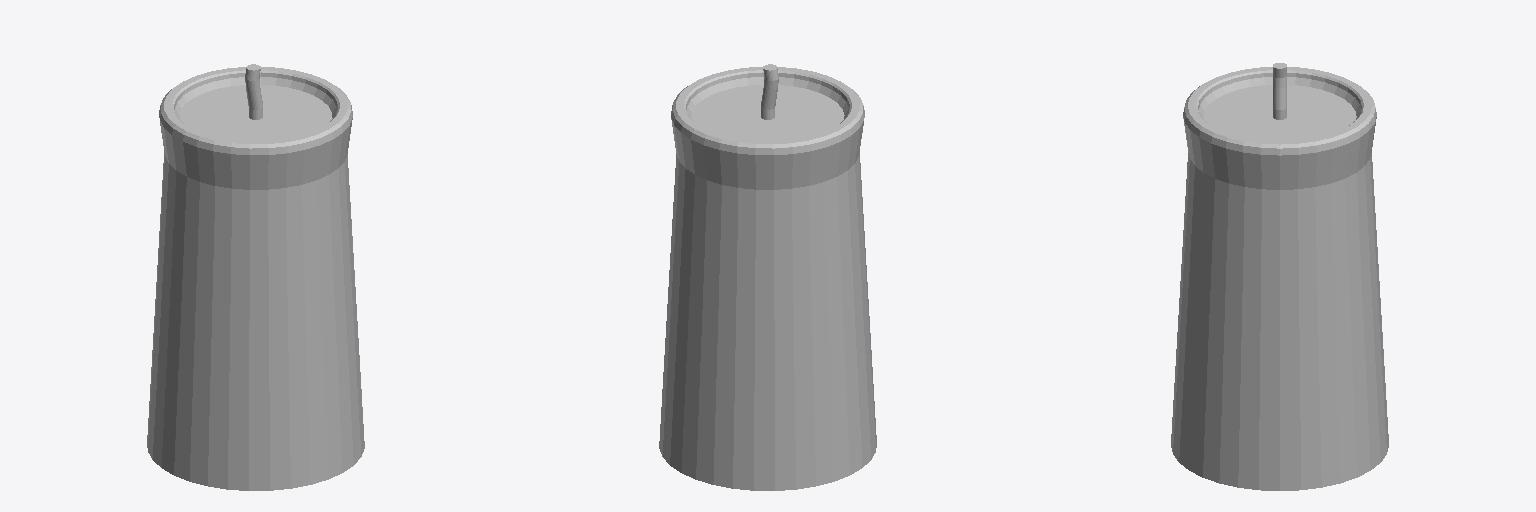
File: Vela.obj
3 renders of one model, left to right at view 1: azimuth 30°, elevation 25°; view 2: azimuth 150°, elevation 25°; view 3: azimuth 270°, elevation 25°, orthographic.
Visible parts, largest first — view 1: Cylinder; view 2: Cylinder; view 3: Cylinder.
Boxes of the visible parts, x1=… form: Cylinder: x1=147, y1=64, x2=364, y2=490; Cylinder: x1=659, y1=64, x2=876, y2=490; Cylinder: x1=1171, y1=63, x2=1388, y2=490.
Bounding box in the file's own units: 0.1587 × 0.3033 × 0.1587.